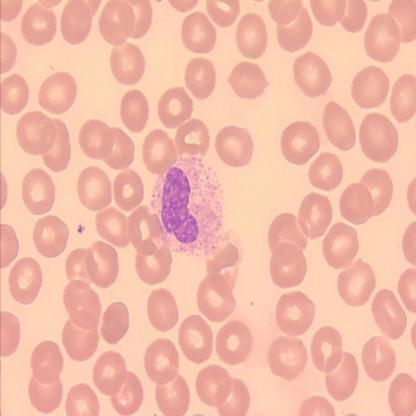Metamyelocyte: (149, 152, 229, 260)
